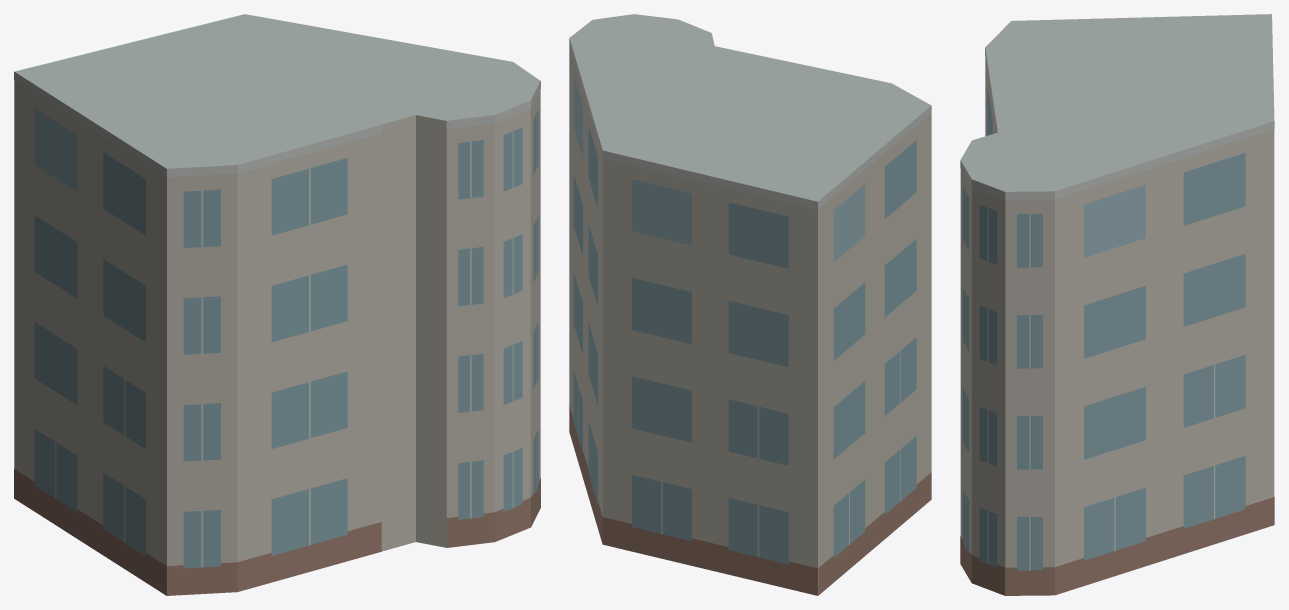
The model's file is residential-0ca9855f-b2af-47ac-88d8-e396d9237ee3.glb.
The picture shows the model from 3 angles, left to right: view 1: azimuth 30°, elevation 25°; view 2: azimuth 150°, elevation 25°; view 3: azimuth 270°, elevation 25°; orthographic projection. The views are drawn at different scales.
Parts seen in each view (by area): view 1: residential-0ca9855f-b2af-47ac-88d8-e396d9237ee3.tmp; view 2: residential-0ca9855f-b2af-47ac-88d8-e396d9237ee3.tmp; view 3: residential-0ca9855f-b2af-47ac-88d8-e396d9237ee3.tmp.
Part boxes in pixels (x1,y1,x2,y2): residential-0ca9855f-b2af-47ac-88d8-e396d9237ee3.tmp: (14,14,540,595); residential-0ca9855f-b2af-47ac-88d8-e396d9237ee3.tmp: (569,14,931,595); residential-0ca9855f-b2af-47ac-88d8-e396d9237ee3.tmp: (960,14,1274,595).
Size of the model in its own units: 11.53 by 12.2 by 8.61.
